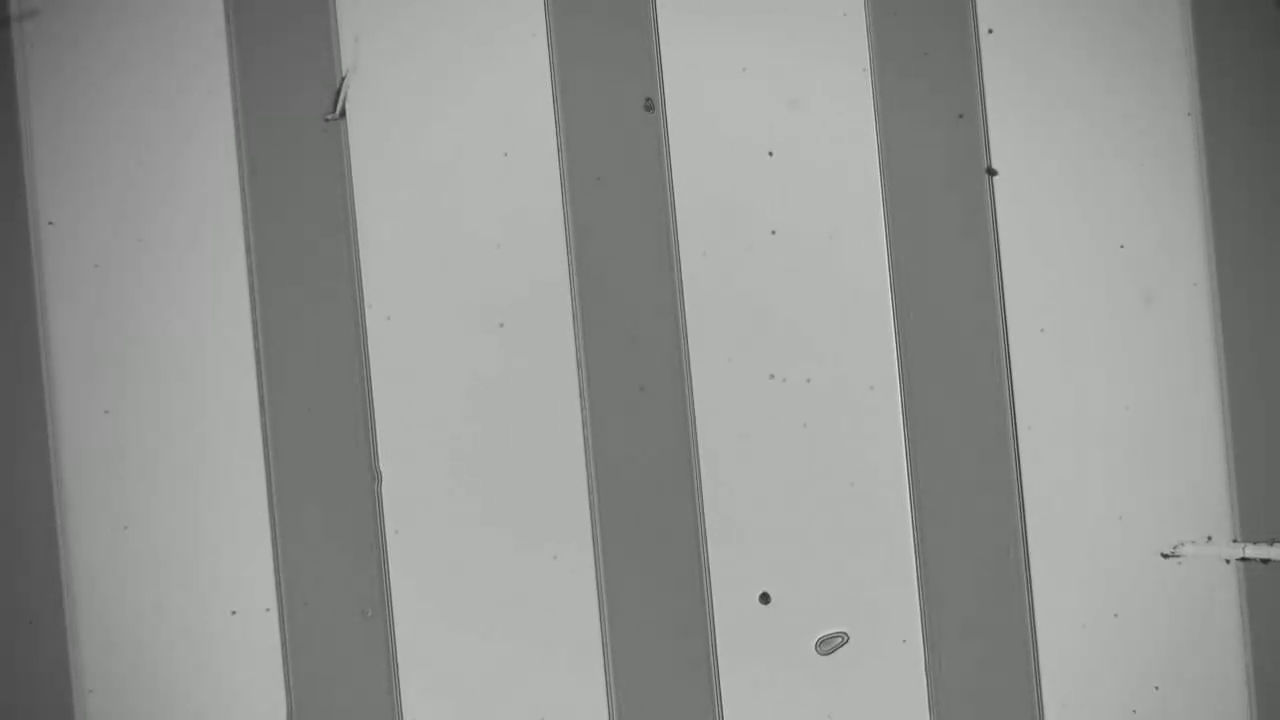Short_circuit: (1209, 522, 1280, 599)
